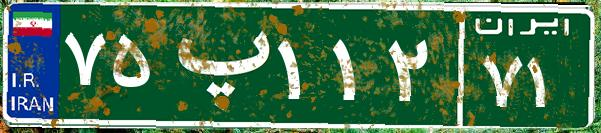1: (273, 28, 330, 110), (330, 28, 385, 110), (525, 38, 570, 115)
2: (385, 28, 445, 110)
5: (110, 28, 158, 105)
7: (57, 26, 110, 107), (475, 38, 525, 113)
پ: (158, 15, 273, 115)
